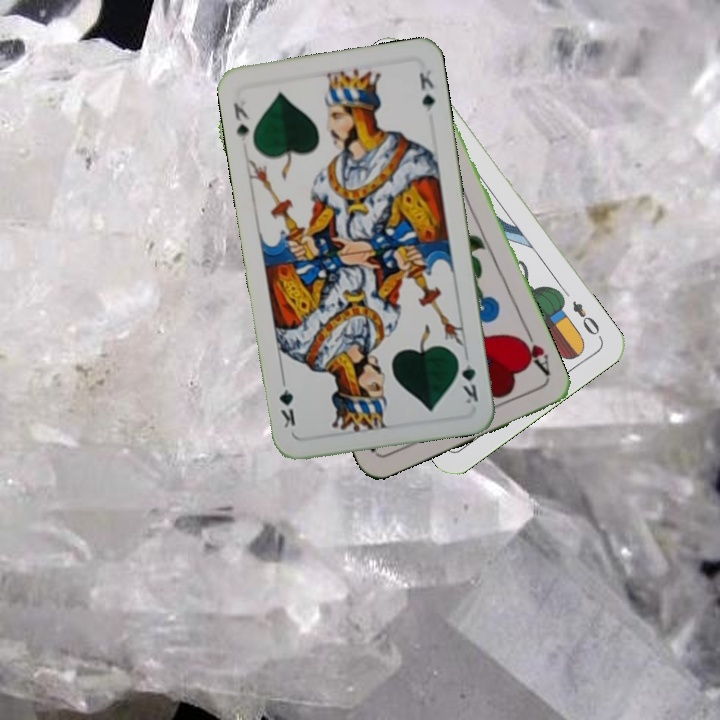EO: (568, 296, 602, 339)
GK: (453, 349, 481, 407), (229, 96, 254, 144)
HA: (514, 324, 553, 379)
